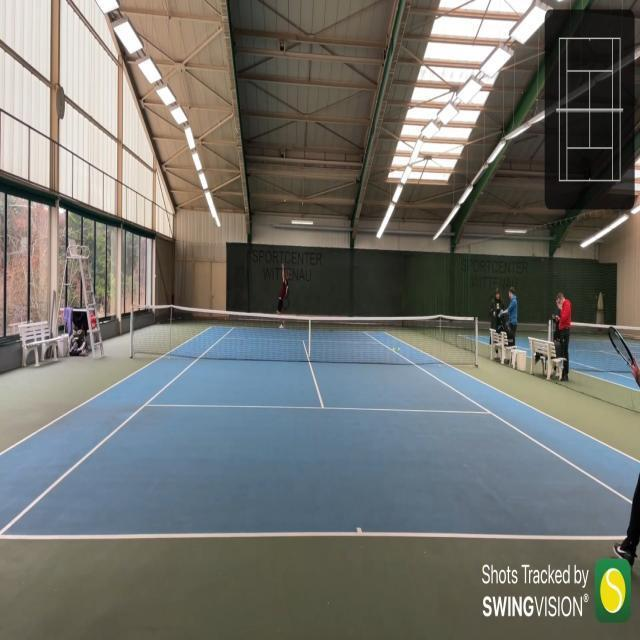court: (0, 326, 640, 542)
net: (129, 300, 480, 368)
player: (609, 325, 640, 554)
